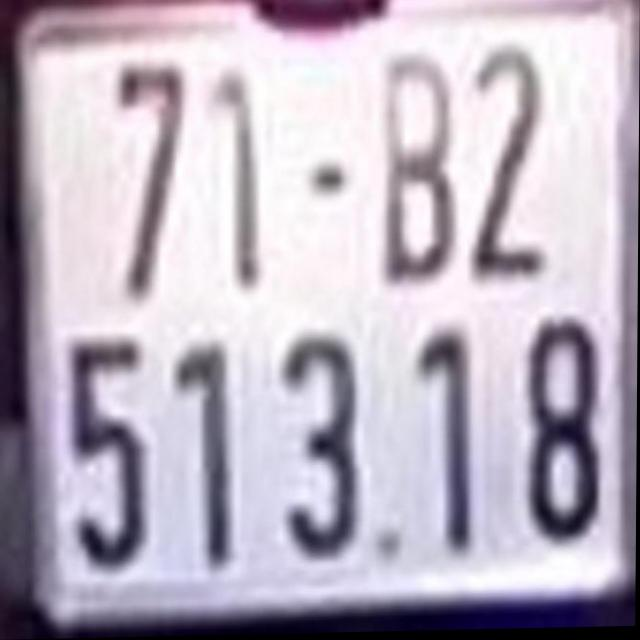1: (209, 59, 279, 299), (172, 339, 242, 576), (411, 331, 474, 552)
2: (477, 44, 557, 285)
3: (281, 334, 365, 554)
5: (72, 338, 157, 572)
7: (112, 63, 193, 306)
8: (528, 322, 603, 539)
B: (383, 55, 459, 292)
